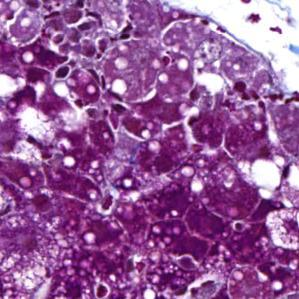ballooning: (263, 205, 299, 253)
